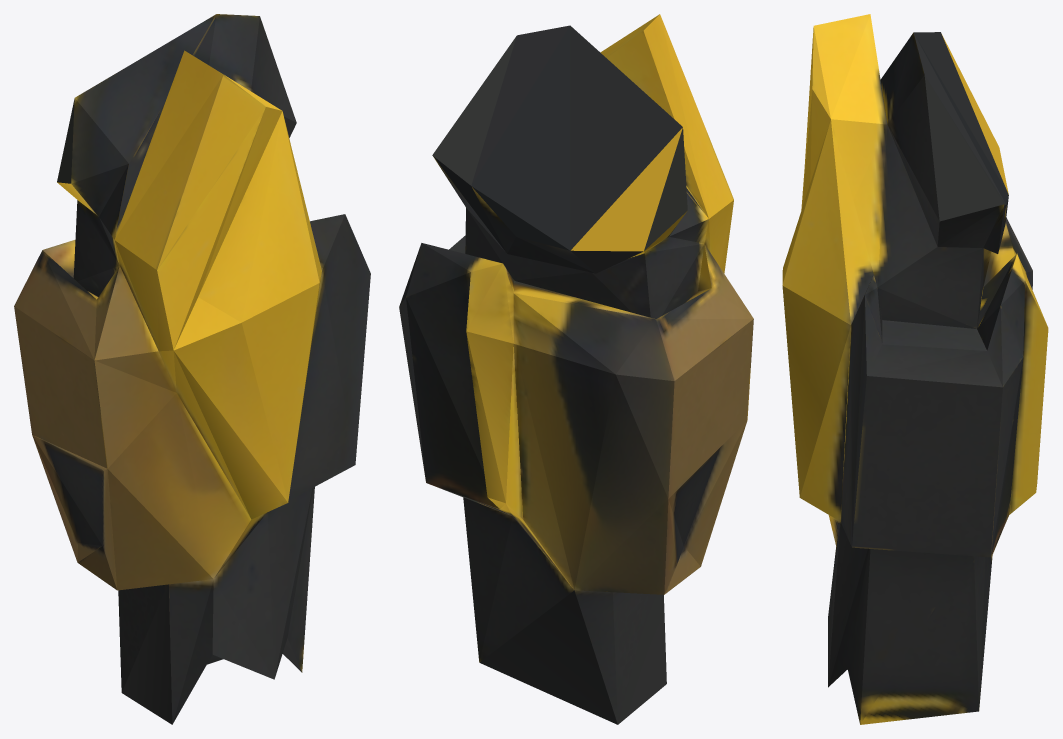
File: SM_ChaserDebris_Thigh_R.fbx
3 views of the same model, side by side, from view 1: azimuth 30°, elevation 25°; view 2: azimuth 150°, elevation 25°; view 3: azimuth 270°, elevation 25° (orthographic). The views are drawn at different scales.
Parts seen in each view (by area): view 1: SM_ChaserDebris_Thigh_R; view 2: SM_ChaserDebris_Thigh_R; view 3: SM_ChaserDebris_Thigh_R.
Part boxes in pixels (bbox=[...]): SM_ChaserDebris_Thigh_R: bbox=[14, 14, 370, 724]; SM_ChaserDebris_Thigh_R: bbox=[399, 14, 753, 724]; SM_ChaserDebris_Thigh_R: bbox=[782, 14, 1048, 724].
Size of the model in its own units: 13.18 by 29.88 by 10.48.
1 material, 1 textured.
